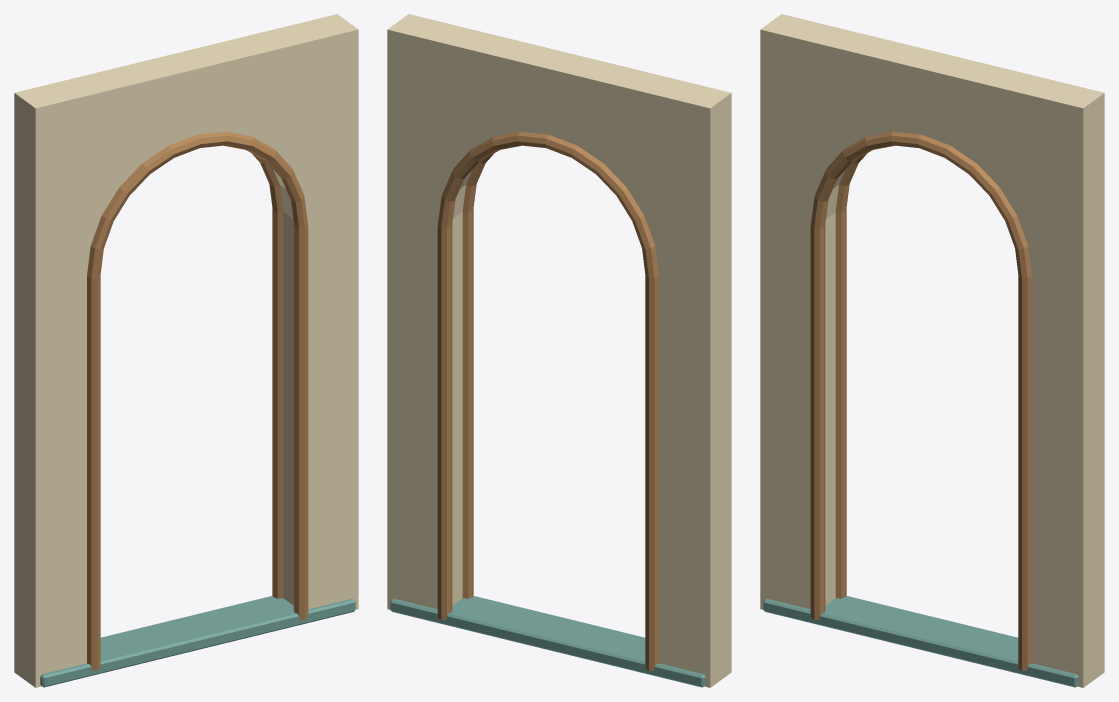
3 renders of one model, left to right at view 1: azimuth 30°, elevation 25°; view 2: azimuth 150°, elevation 25°; view 3: azimuth 330°, elevation 25°, orthographic.
Parts seen in each view (by area): view 1: dining-archway-wall-01; view 2: dining-archway-wall-01; view 3: dining-archway-wall-01.
Part boxes in pixels (x1,y1,x2,y2): dining-archway-wall-01: (14, 14, 358, 687); dining-archway-wall-01: (387, 14, 731, 687); dining-archway-wall-01: (760, 14, 1104, 687).
Size of the model in its own units: 1.4 by 2.4 by 0.216.
